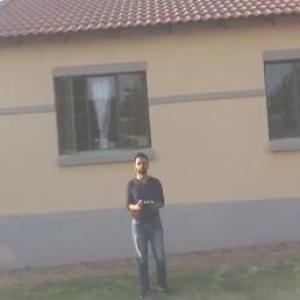follow: (128, 144, 174, 299)
